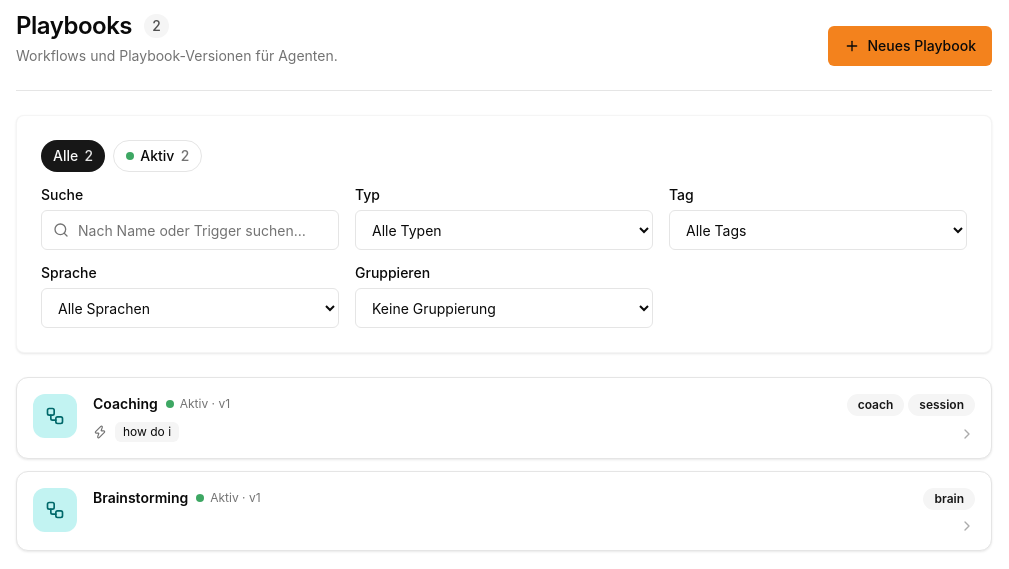
Test: PlaybooksPage › filtert client-seitig ueber das Tag-Select der Filterleiste und zeigt den Chip
This screenshot has width=1009, height=569.
Expected: the link "Coaching" is shown, x1=93 y1=394 x2=158 y2=414
Expected: the link "Brainstorming" is shown, x1=93 y1=488 x2=188 y2=508
# Kein Popover mehr: ab `md` stehen die Facetten direkt im Raster.
Select "brain" in the dropdown labelled "Tag" at [818, 230], box x1=669 y1=210 x2=967 y2=250
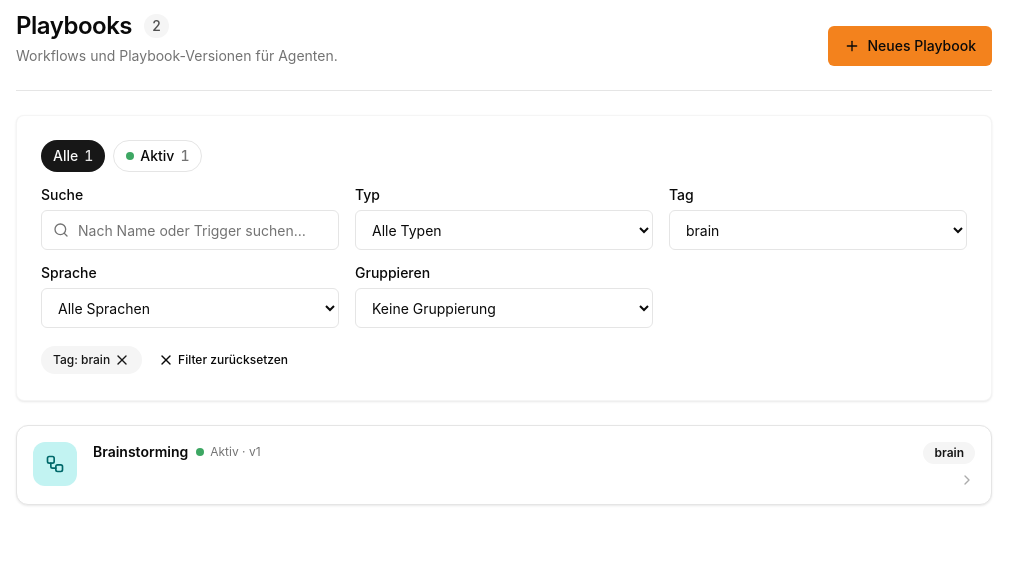
Expected: the link "Brainstorming" is shown, x1=93 y1=442 x2=188 y2=462
Expected: the link "Coaching" is gone
Click the button "Tag: brain" at [92, 360], box x1=41 y1=346 x2=142 y2=374
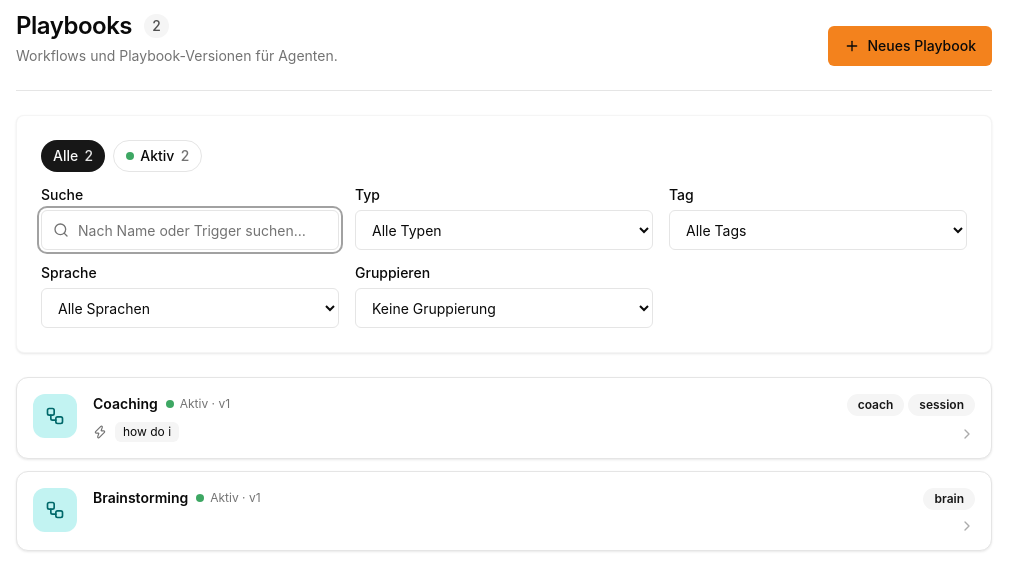
Expected: the link "Coaching" is shown, x1=93 y1=394 x2=158 y2=414
